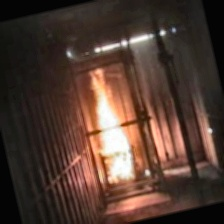fire: (79, 65, 140, 186)
